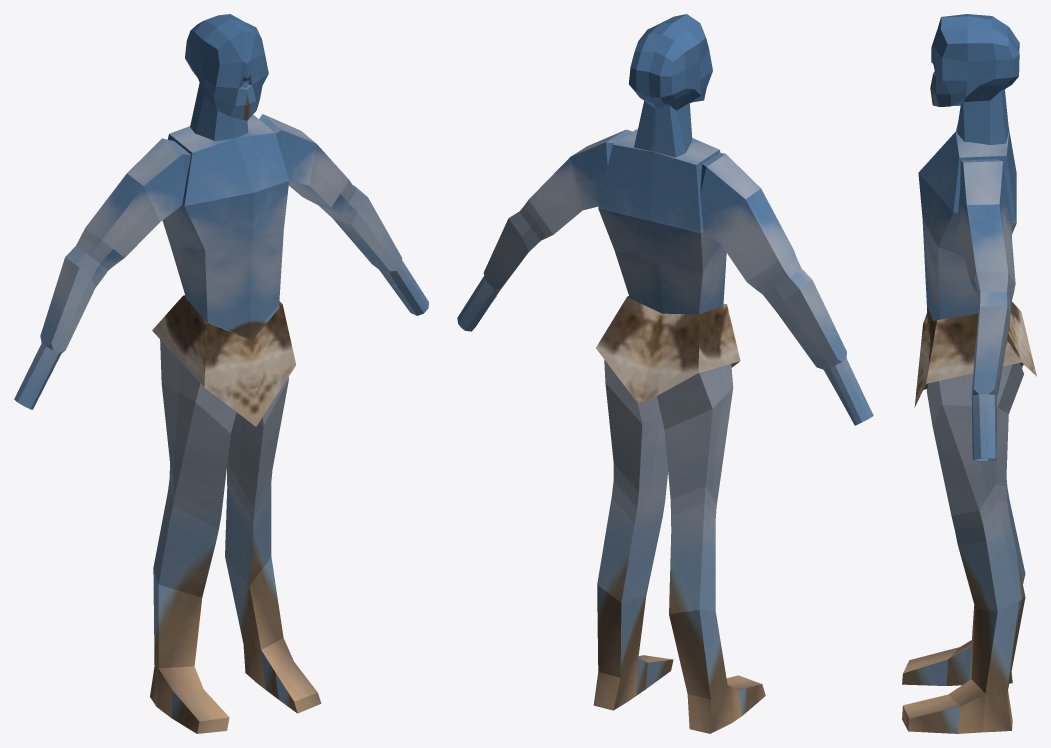
The model's file is MainEnemy.obj.
The picture shows the model from 3 angles, left to right: view 1: azimuth 30°, elevation 25°; view 2: azimuth 150°, elevation 25°; view 3: azimuth 270°, elevation 25°; orthographic projection.
Visible parts, largest first — view 1: Cube.001_Cube.002; view 2: Cube.001_Cube.002; view 3: Cube.001_Cube.002.
Boxes of the visible parts, <box> form: Cube.001_Cube.002: <box>14,14,428,733</box>; Cube.001_Cube.002: <box>457,14,873,733</box>; Cube.001_Cube.002: <box>902,14,1036,733</box>.
Size of the model in its own units: 1.43 by 2.26 by 0.4016.
